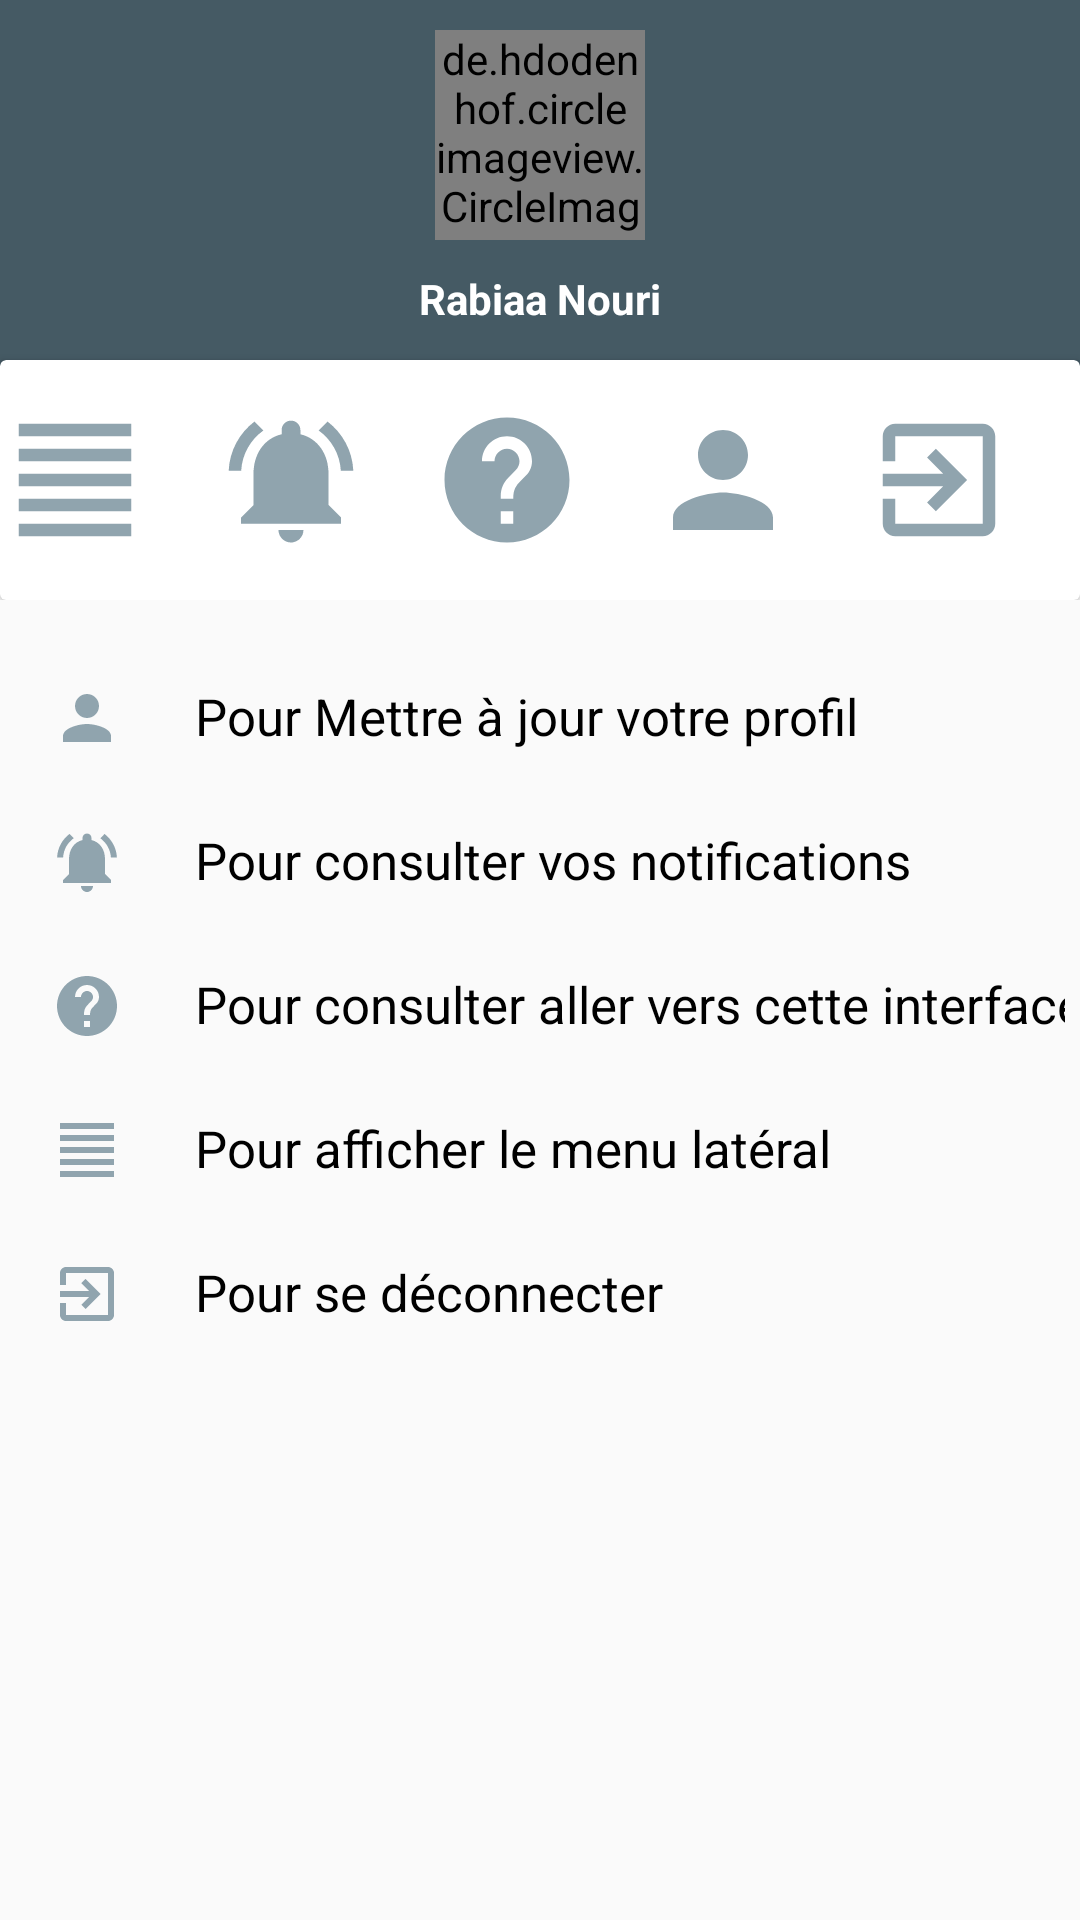

Where to tap for icons on this 1080px x 1920px app screen, as point (x, y):
exit: point (939, 480), point (87, 1294)
help: point (507, 480), point (87, 1006)
person: point (723, 480), point (87, 718)
